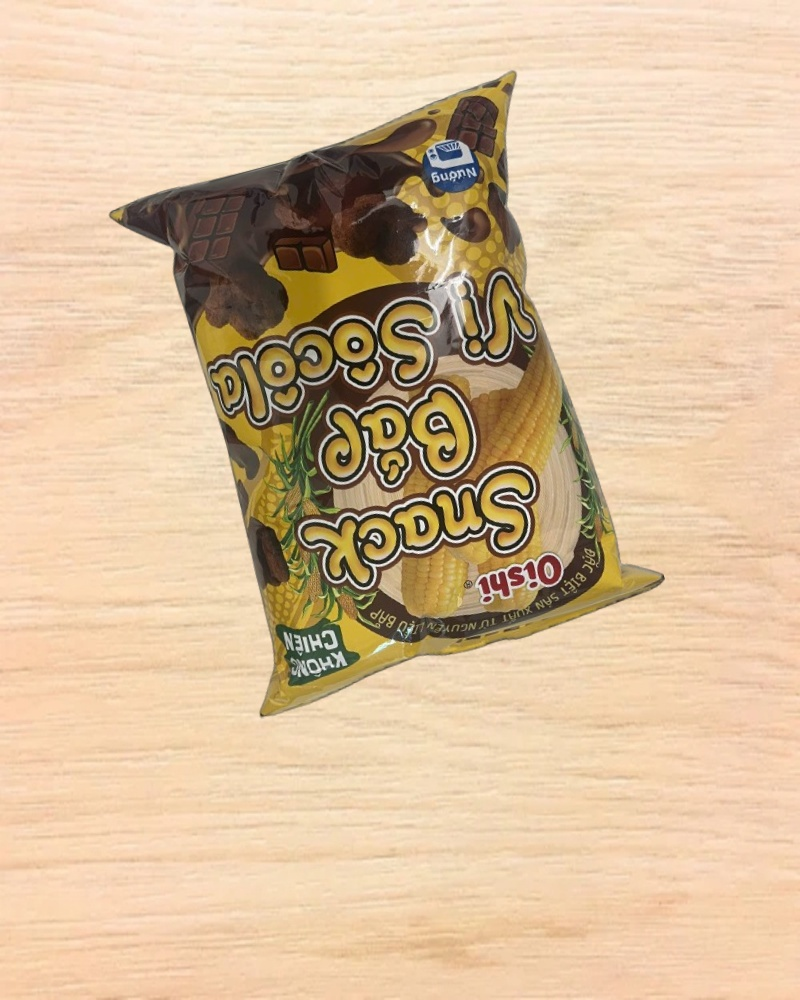Snack socola: (103, 70, 672, 721)
